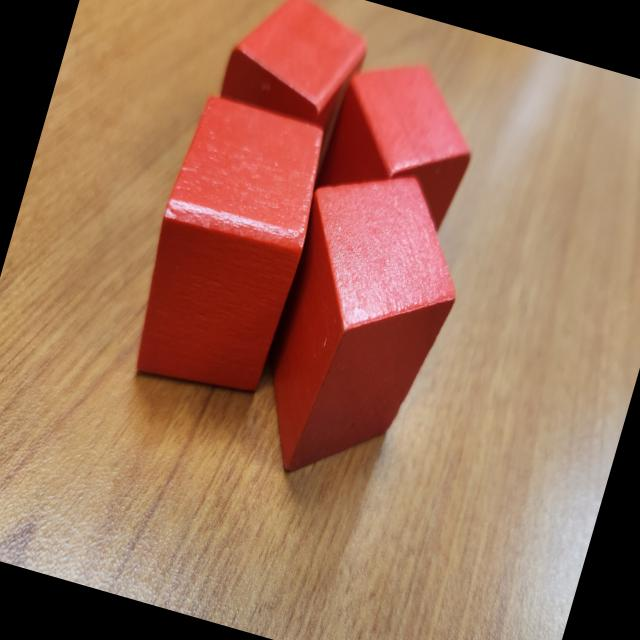red: (236, 150, 484, 506), (116, 86, 342, 413), (310, 42, 492, 238), (214, 0, 376, 134)
